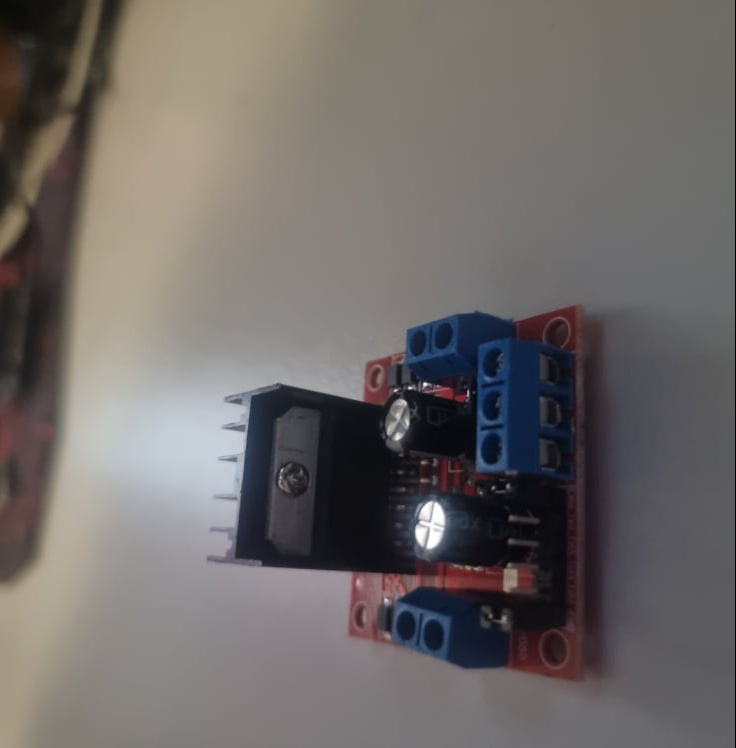MOTOR: (208, 306, 592, 685)
